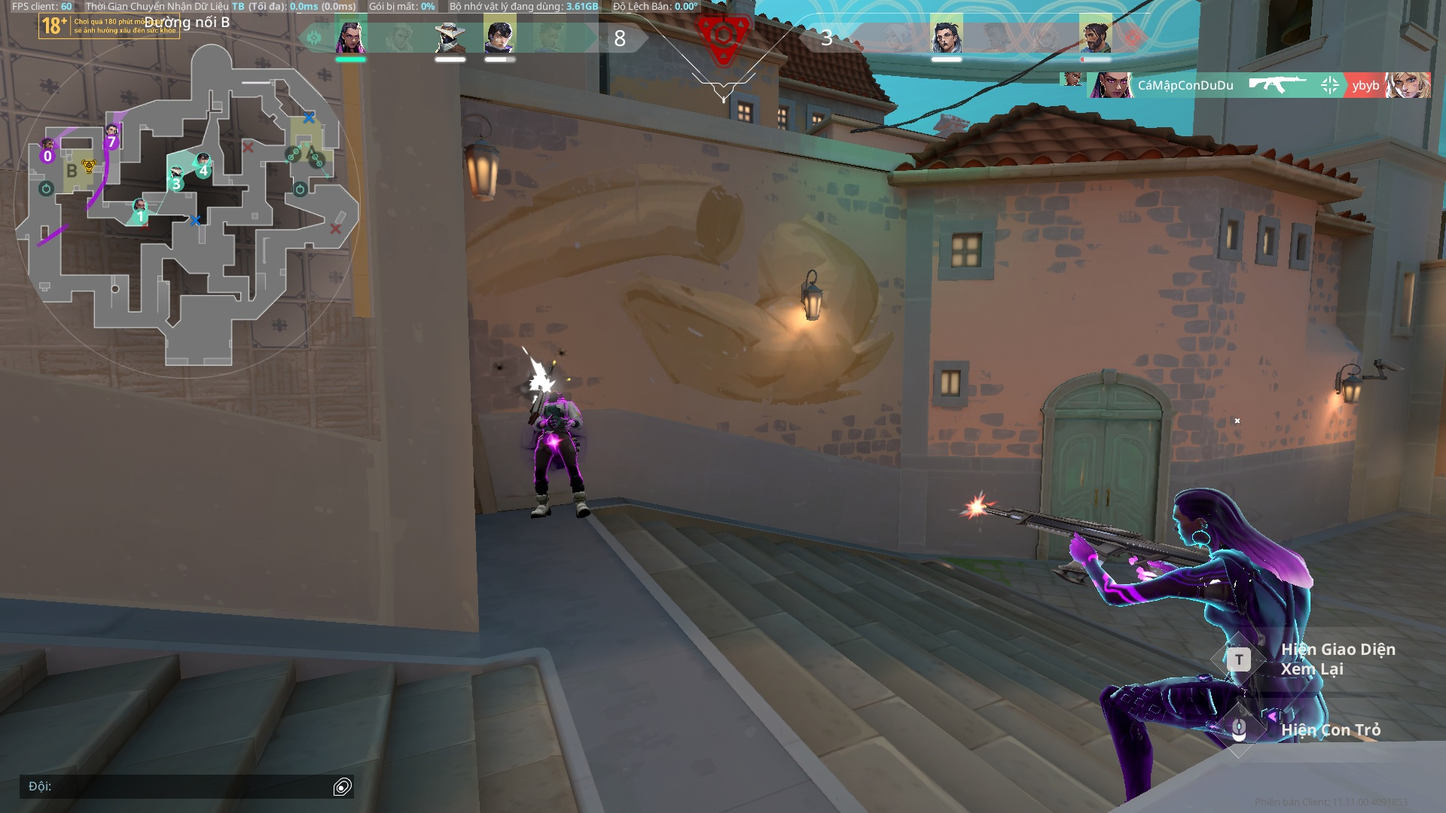body: (536, 399, 575, 434)
head: (545, 388, 560, 398)
